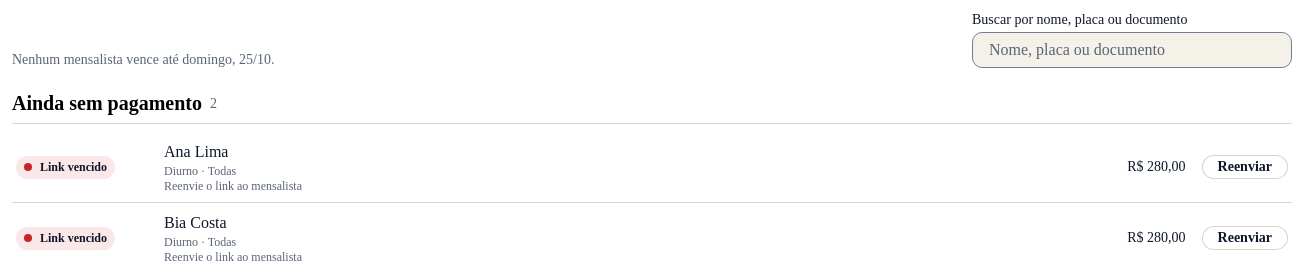
Test case: AgendaView: ações › contrato com o link vencido oferece reenviar, e o reenvio desabilita só aquele item
Click the button with aria-label "Reenviar contrato para Ana Lima". click: (1245, 167)
box: [1202,155,1288,179]
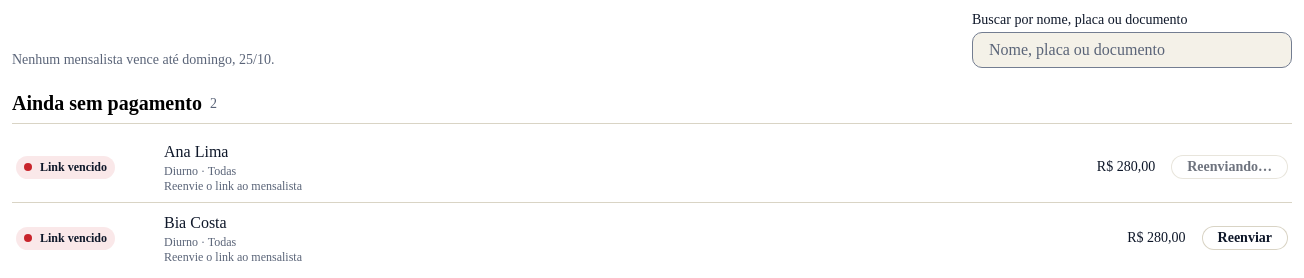
Expected: the button with aria-label "Reenviar contrato para Bia Costa" is enabled, [1202,226,1288,250]
Expected: the button with aria-label "Reenviar contrato para Ana Lima" is disabled, [1171,155,1288,179]
